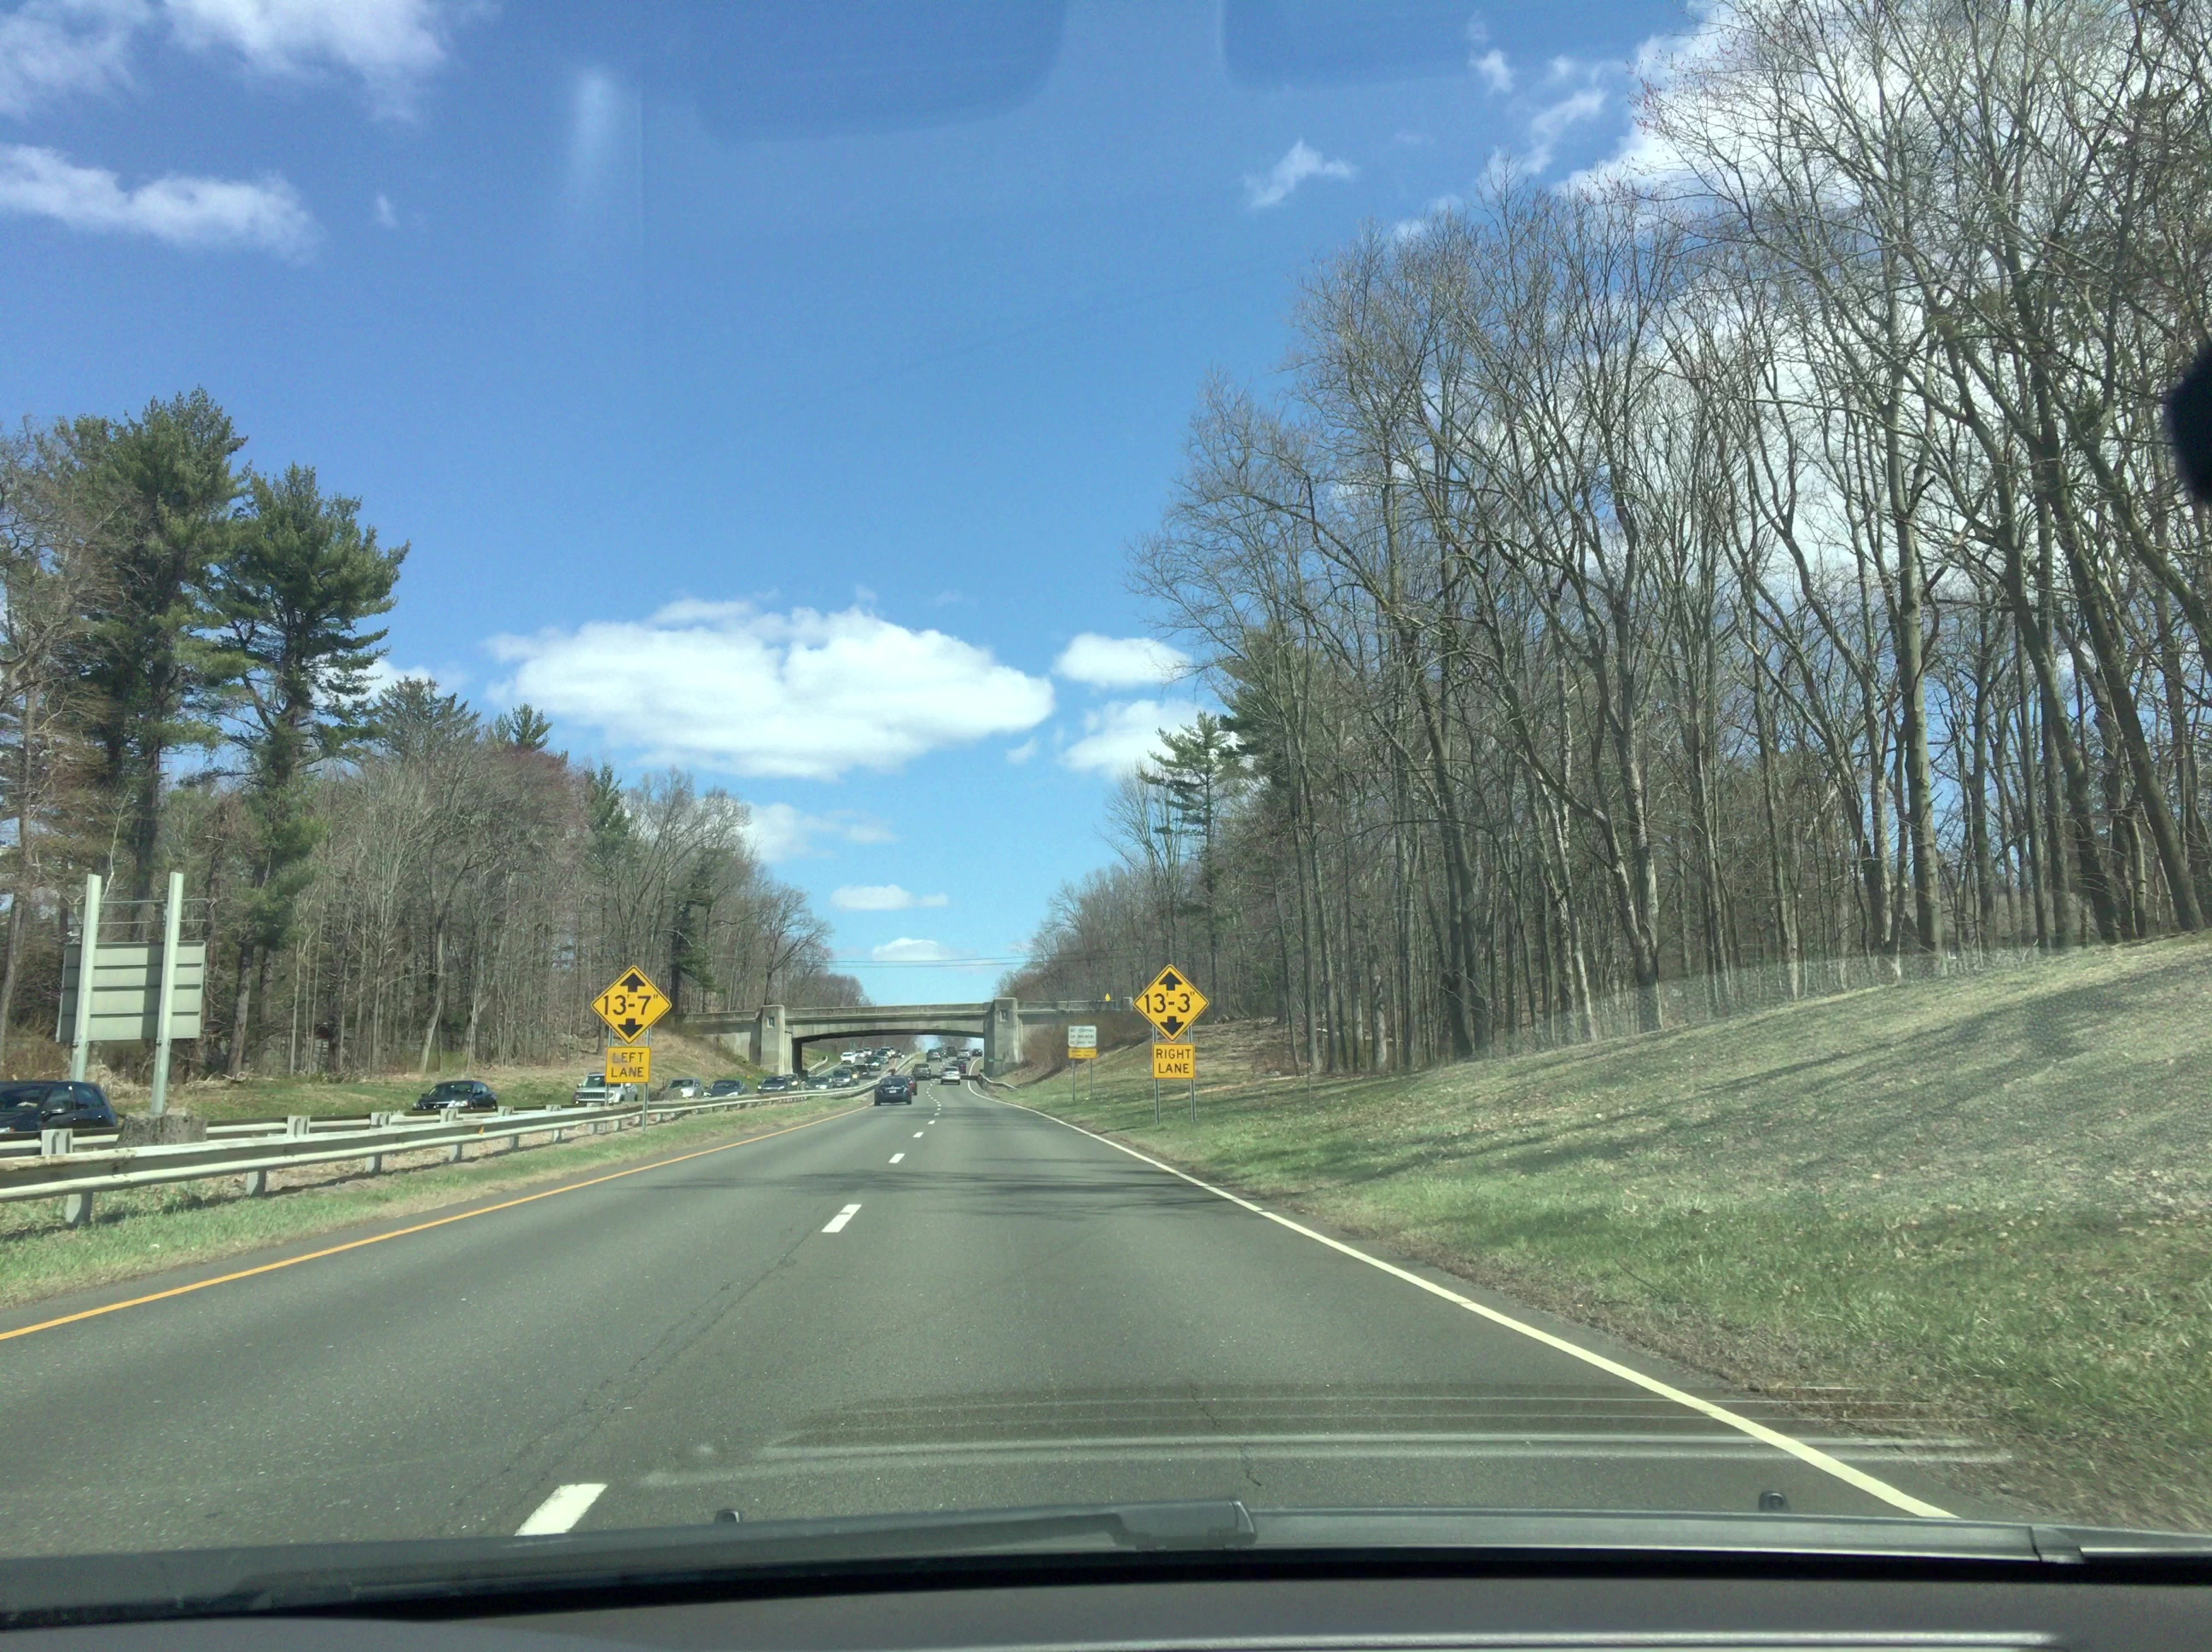low-clearance-sign: (592, 965, 671, 1045), (1133, 965, 1211, 1043)
